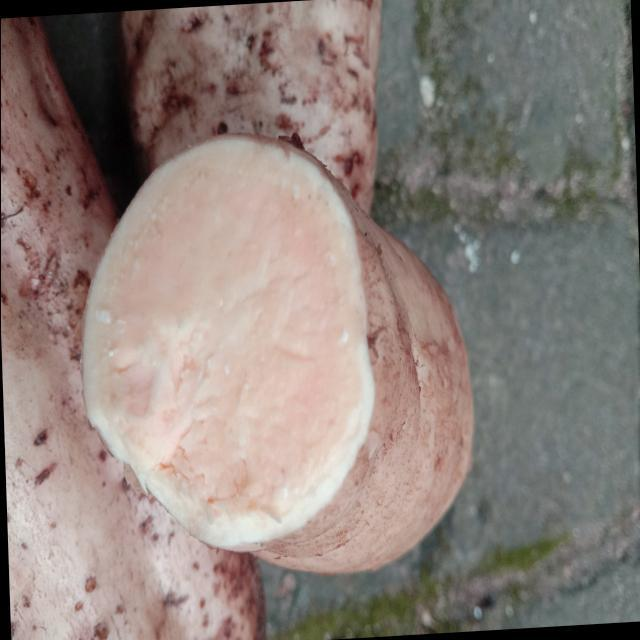Healthy Sweet Potato: (81, 135, 372, 550)
